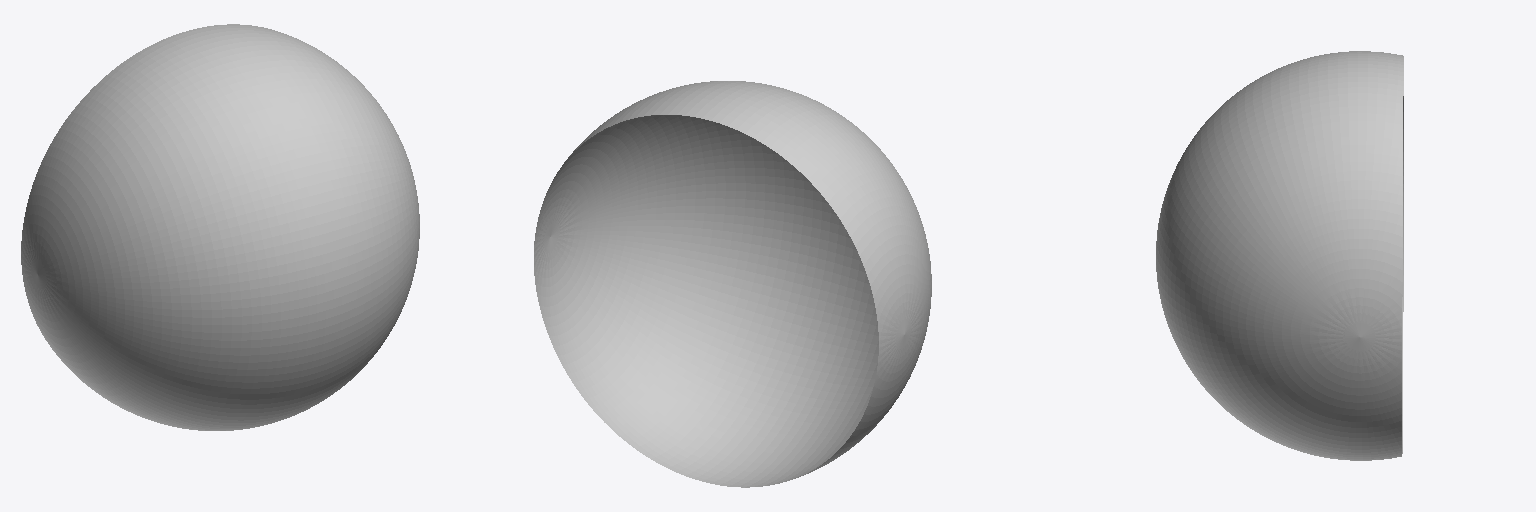
The model's file is sky.obj.
3 views of the same model, side by side, from view 1: azimuth 30°, elevation 25°; view 2: azimuth 150°, elevation 25°; view 3: azimuth 270°, elevation 25° (orthographic).
Parts seen in each view (by area): view 1: REPLACE_ME; view 2: REPLACE_ME; view 3: REPLACE_ME.
Boxes of the visible parts, x1,y1,x2,y2 form: REPLACE_ME: [21, 24, 419, 430]; REPLACE_ME: [534, 81, 931, 487]; REPLACE_ME: [1156, 51, 1403, 460].
Bounding box in the file's own units: 39.98 × 39.99 × 24.23.